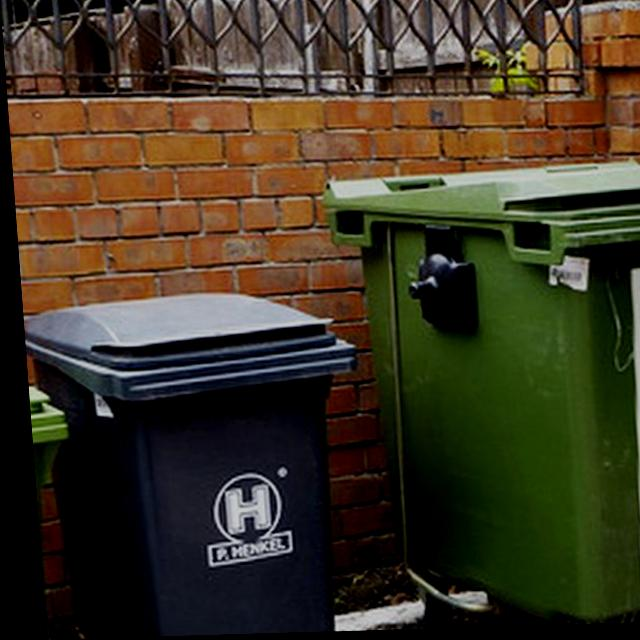Trash_Can_Closed: (318, 161, 640, 627), (19, 296, 349, 639)
